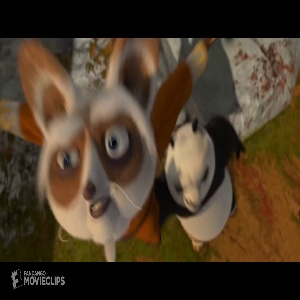po: (163, 114, 245, 250)
shifu: (3, 38, 215, 246)
